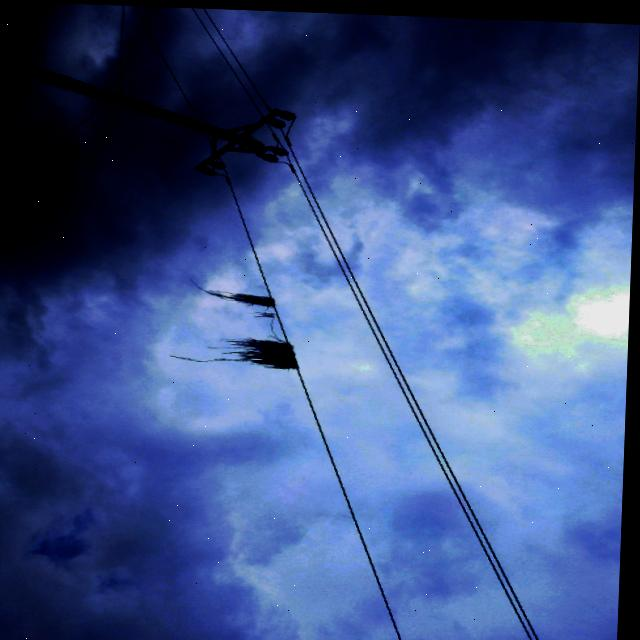obstruction: (178, 336, 304, 369), (193, 283, 279, 306)
poles: (0, 47, 313, 179)
wires: (291, 171, 550, 640), (286, 371, 422, 640), (0, 98, 109, 208), (106, 6, 201, 119), (181, 5, 271, 115), (222, 171, 279, 292), (266, 306, 294, 339)
